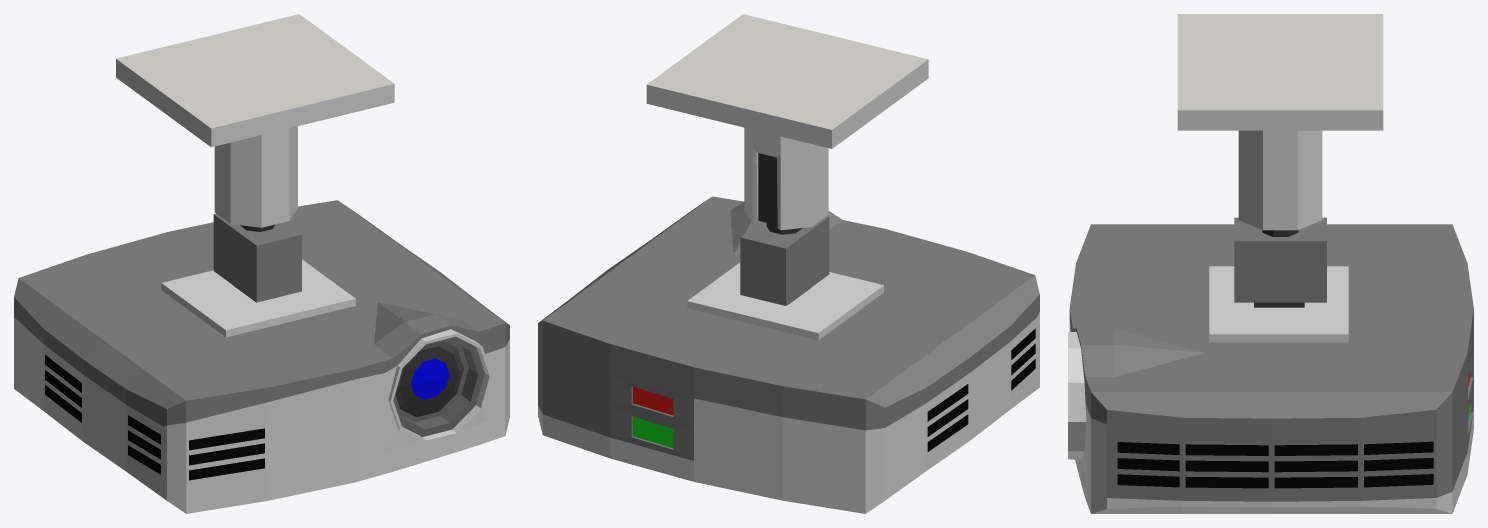
The model's file is Int_TechProjector01.fbx.
3 renders of one model, left to right at view 1: azimuth 30°, elevation 25°; view 2: azimuth 150°, elevation 25°; view 3: azimuth 270°, elevation 25°, orthographic. The views are drawn at different scales.
Parts seen in each view (by area): view 1: Int_TechProjector01; view 2: Int_TechProjector01; view 3: Int_TechProjector01.
Part boxes in pixels (left/top/right/bottom): Int_TechProjector01: left=14, top=14, right=509, bottom=513; Int_TechProjector01: left=538, top=14, right=1039, bottom=513; Int_TechProjector01: left=1068, top=14, right=1473, bottom=513.
Size of what is drawn, in the model's own units: 56.3 by 51.36 by 51.19.
